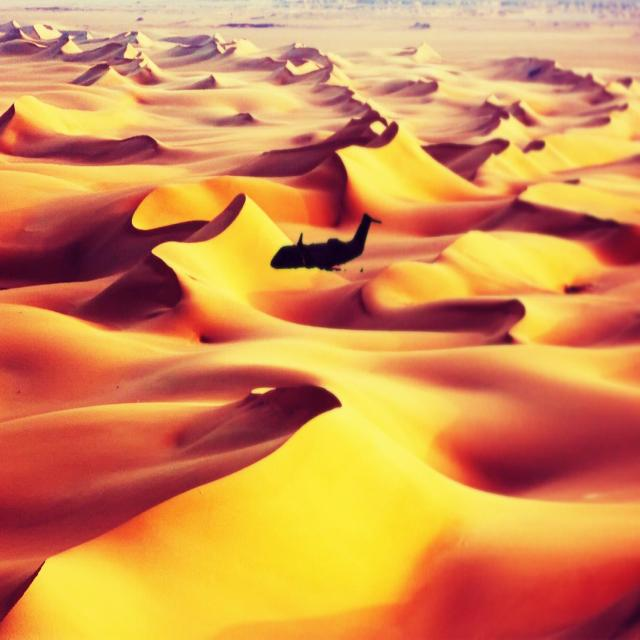airplane: (272, 211, 382, 283)
